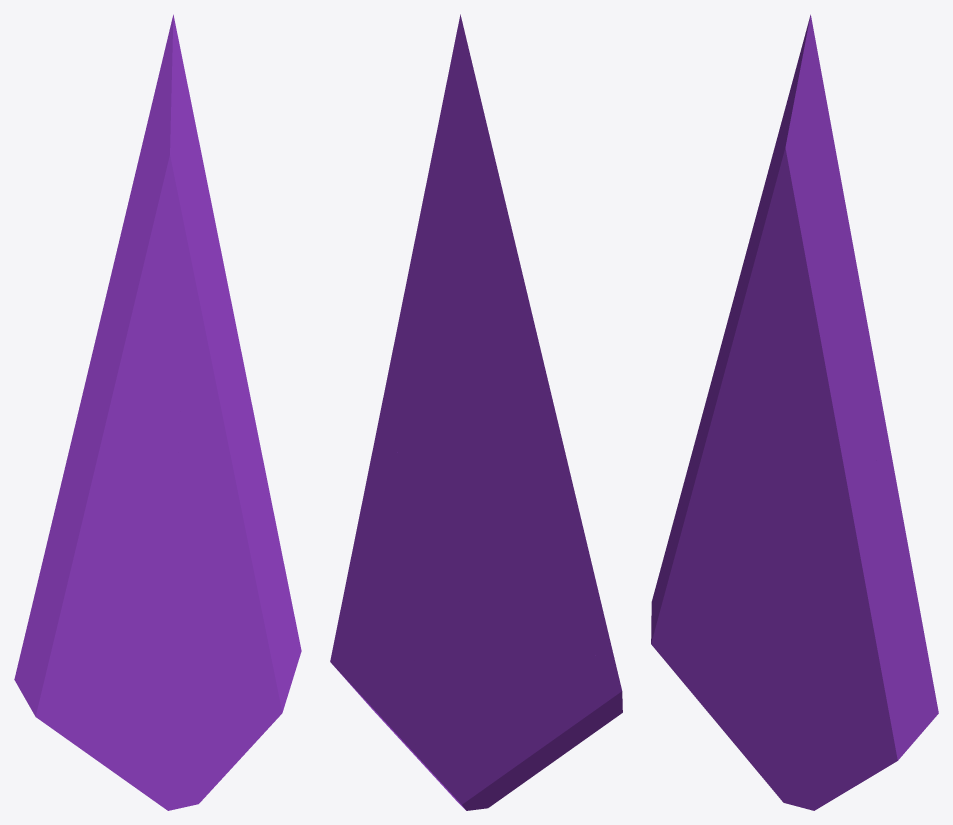
Rendered from Glass_83_1_3_chunks.fbx.
The picture shows the model from 3 angles, left to right: view 1: azimuth 30°, elevation 25°; view 2: azimuth 150°, elevation 25°; view 3: azimuth 330°, elevation 25°; orthographic projection.
Visible parts, largest first — view 1: Glass_83_1_3_1, Glass_83_1_3_2, Glass_83_1_3_4, Glass_83_1_3_11, Glass_83_1_3_9, Glass_83_1_3_3, Glass_83_1_3_8, Glass_83_1_3_7, Glass_83_1_3_12, Glass_83_1_3_5; view 2: Glass_83_1_3_1, Glass_83_1_3_2, Glass_83_1_3_4, Glass_83_1_3_8, Glass_83_1_3_7, Glass_83_1_3_11, Glass_83_1_3_9, Glass_83_1_3_0, Glass_83_1_3_3, Glass_83_1_3_5, Glass_83_1_3_6; view 3: Glass_83_1_3_1, Glass_83_1_3_2, Glass_83_1_3_4, Glass_83_1_3_8, Glass_83_1_3_11, Glass_83_1_3_9, Glass_83_1_3_7, Glass_83_1_3_3, Glass_83_1_3_12, Glass_83_1_3_5.
Part boxes in pixels (left/top/right/bottom): Glass_83_1_3_1: left=14, top=615, right=258, bottom=810; Glass_83_1_3_2: left=173, top=406, right=301, bottom=738; Glass_83_1_3_4: left=21, top=471, right=158, bottom=649; Glass_83_1_3_11: left=64, top=343, right=181, bottom=496; Glass_83_1_3_9: left=94, top=63, right=188, bottom=346; Glass_83_1_3_3: left=155, top=438, right=242, bottom=618; Glass_83_1_3_8: left=158, top=14, right=238, bottom=339; Glass_83_1_3_7: left=178, top=334, right=252, bottom=463; Glass_83_1_3_12: left=146, top=271, right=187, bottom=385; Glass_83_1_3_5: left=182, top=177, right=202, bottom=354; Glass_83_1_3_1: left=395, top=628, right=622, bottom=810; Glass_83_1_3_2: left=330, top=413, right=459, bottom=733; Glass_83_1_3_4: left=473, top=474, right=614, bottom=659; Glass_83_1_3_8: left=394, top=14, right=475, bottom=344; Glass_83_1_3_7: left=380, top=342, right=494, bottom=488; Glass_83_1_3_11: left=490, top=345, right=571, bottom=478; Glass_83_1_3_9: left=476, top=81, right=540, bottom=350; Glass_83_1_3_0: left=375, top=601, right=489, bottom=750; Glass_83_1_3_3: left=397, top=453, right=476, bottom=612; Glass_83_1_3_5: left=452, top=80, right=489, bottom=351; Glass_83_1_3_6: left=438, top=328, right=493, bottom=451; Glass_83_1_3_1: left=651, top=575, right=874, bottom=810; Glass_83_1_3_2: left=788, top=444, right=938, bottom=774; Glass_83_1_3_4: left=659, top=418, right=774, bottom=605; Glass_83_1_3_8: left=795, top=14, right=875, bottom=370; Glass_83_1_3_11: left=701, top=307, right=796, bottom=477; Glass_83_1_3_9: left=731, top=61, right=803, bottom=324; Glass_83_1_3_7: left=793, top=343, right=889, bottom=469; Glass_83_1_3_3: left=771, top=460, right=868, bottom=609; Glass_83_1_3_12: left=762, top=272, right=802, bottom=383; Glass_83_1_3_5: left=799, top=178, right=818, bottom=354.
Size of the model in its own units: 413 by 1080 by 27.2.
